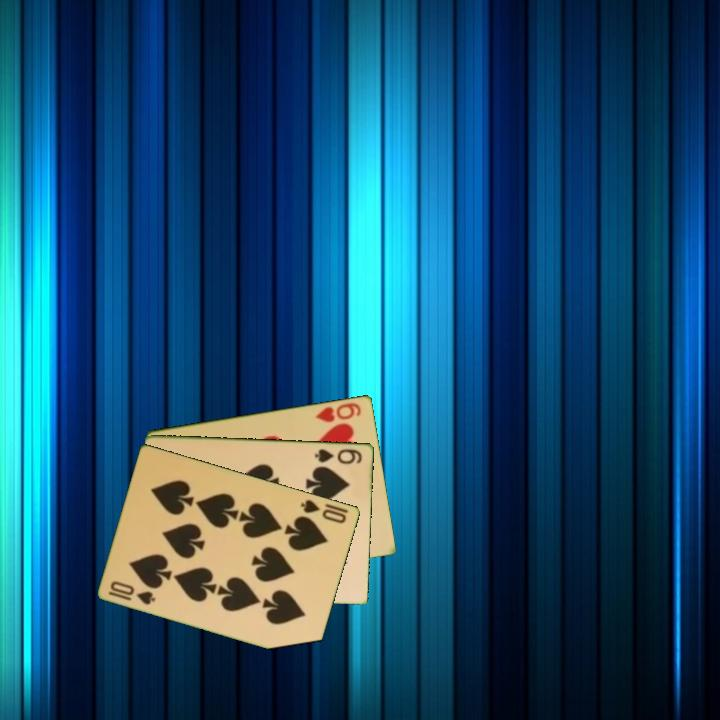10s: (105, 577, 159, 608), (297, 496, 350, 526)
6h: (312, 399, 364, 425)
6s: (312, 445, 365, 467)
